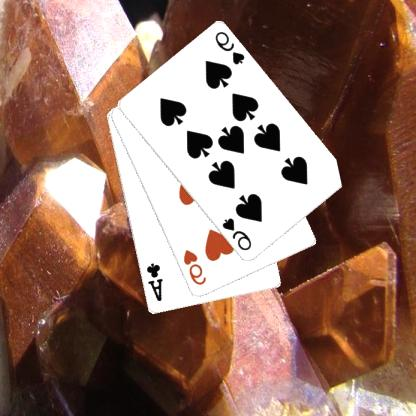6H: (182, 247, 209, 287)
9S: (214, 29, 248, 66), (221, 216, 255, 252)
AC: (145, 260, 166, 302)
